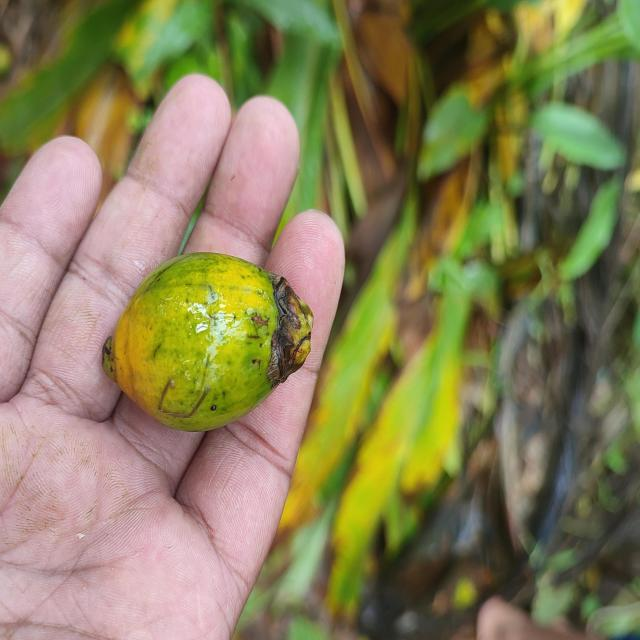damaged: (100, 253, 313, 434)
